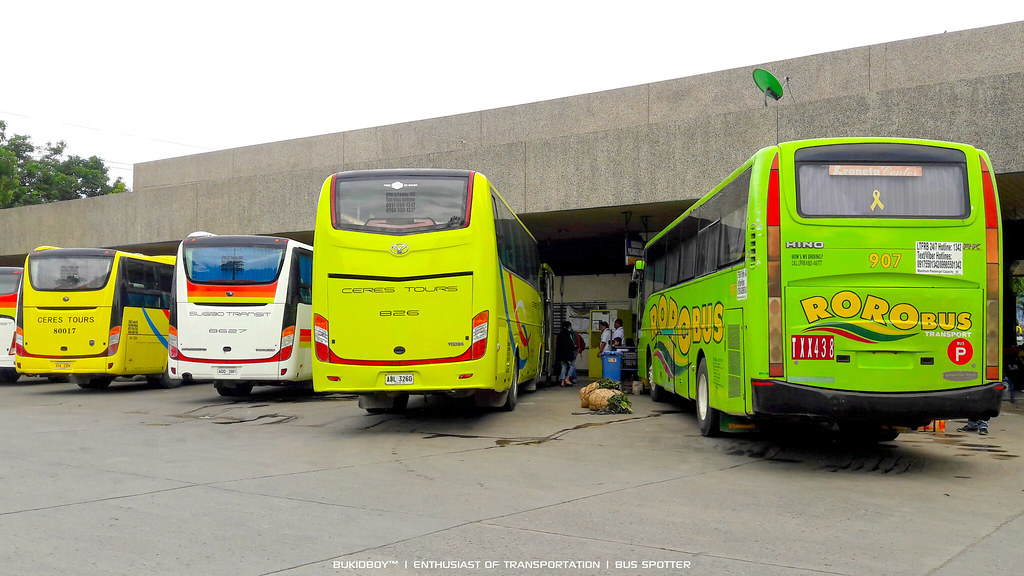bus: (632, 138, 1002, 433), (315, 170, 555, 417), (173, 230, 314, 395), (20, 244, 168, 383)
person: (554, 319, 580, 387)
